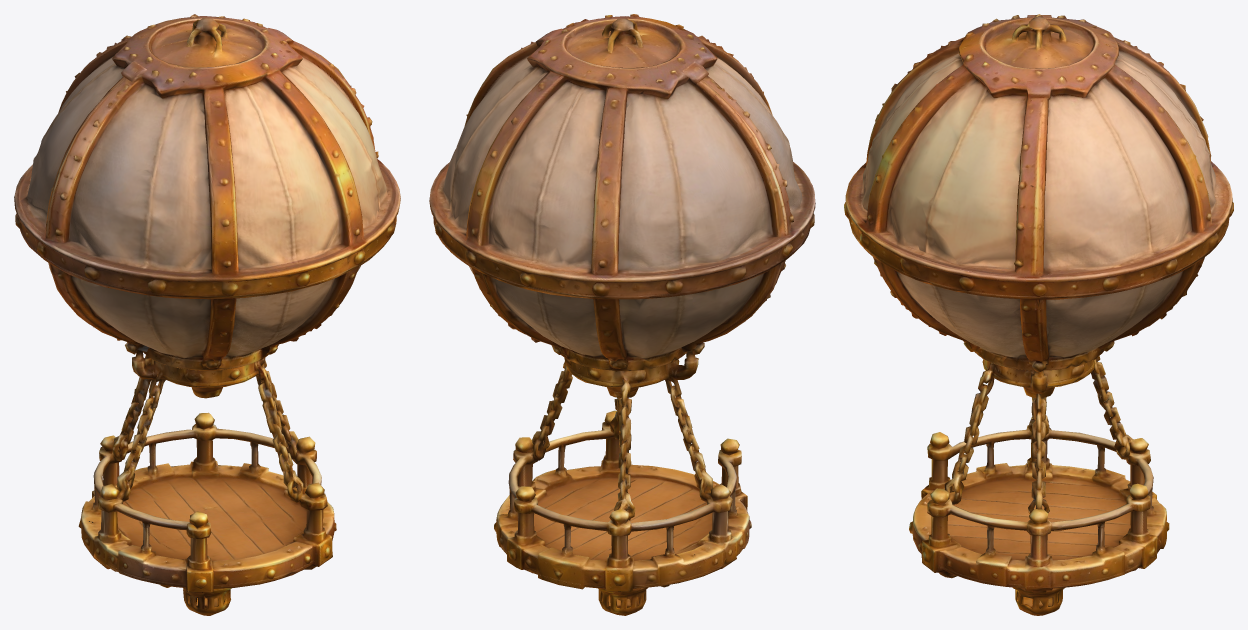
File: balloon.glb
3 views of the same model, side by side, from view 1: azimuth 30°, elevation 25°; view 2: azimuth 150°, elevation 25°; view 3: azimuth 270°, elevation 25° (orthographic).
Parts seen in each view (by area): view 1: tripo_node_5f59eaff-a370-4038-8b82-5a1767f68406; view 2: tripo_node_5f59eaff-a370-4038-8b82-5a1767f68406; view 3: tripo_node_5f59eaff-a370-4038-8b82-5a1767f68406.
Boxes of the visible parts, bbox=[...] form: tripo_node_5f59eaff-a370-4038-8b82-5a1767f68406: bbox=[14, 14, 400, 615]; tripo_node_5f59eaff-a370-4038-8b82-5a1767f68406: bbox=[429, 14, 815, 615]; tripo_node_5f59eaff-a370-4038-8b82-5a1767f68406: bbox=[844, 14, 1233, 615].
Size of the model in its own units: 0.5934 by 1 by 0.5941.
Materials: 1 (1 with a texture image).
